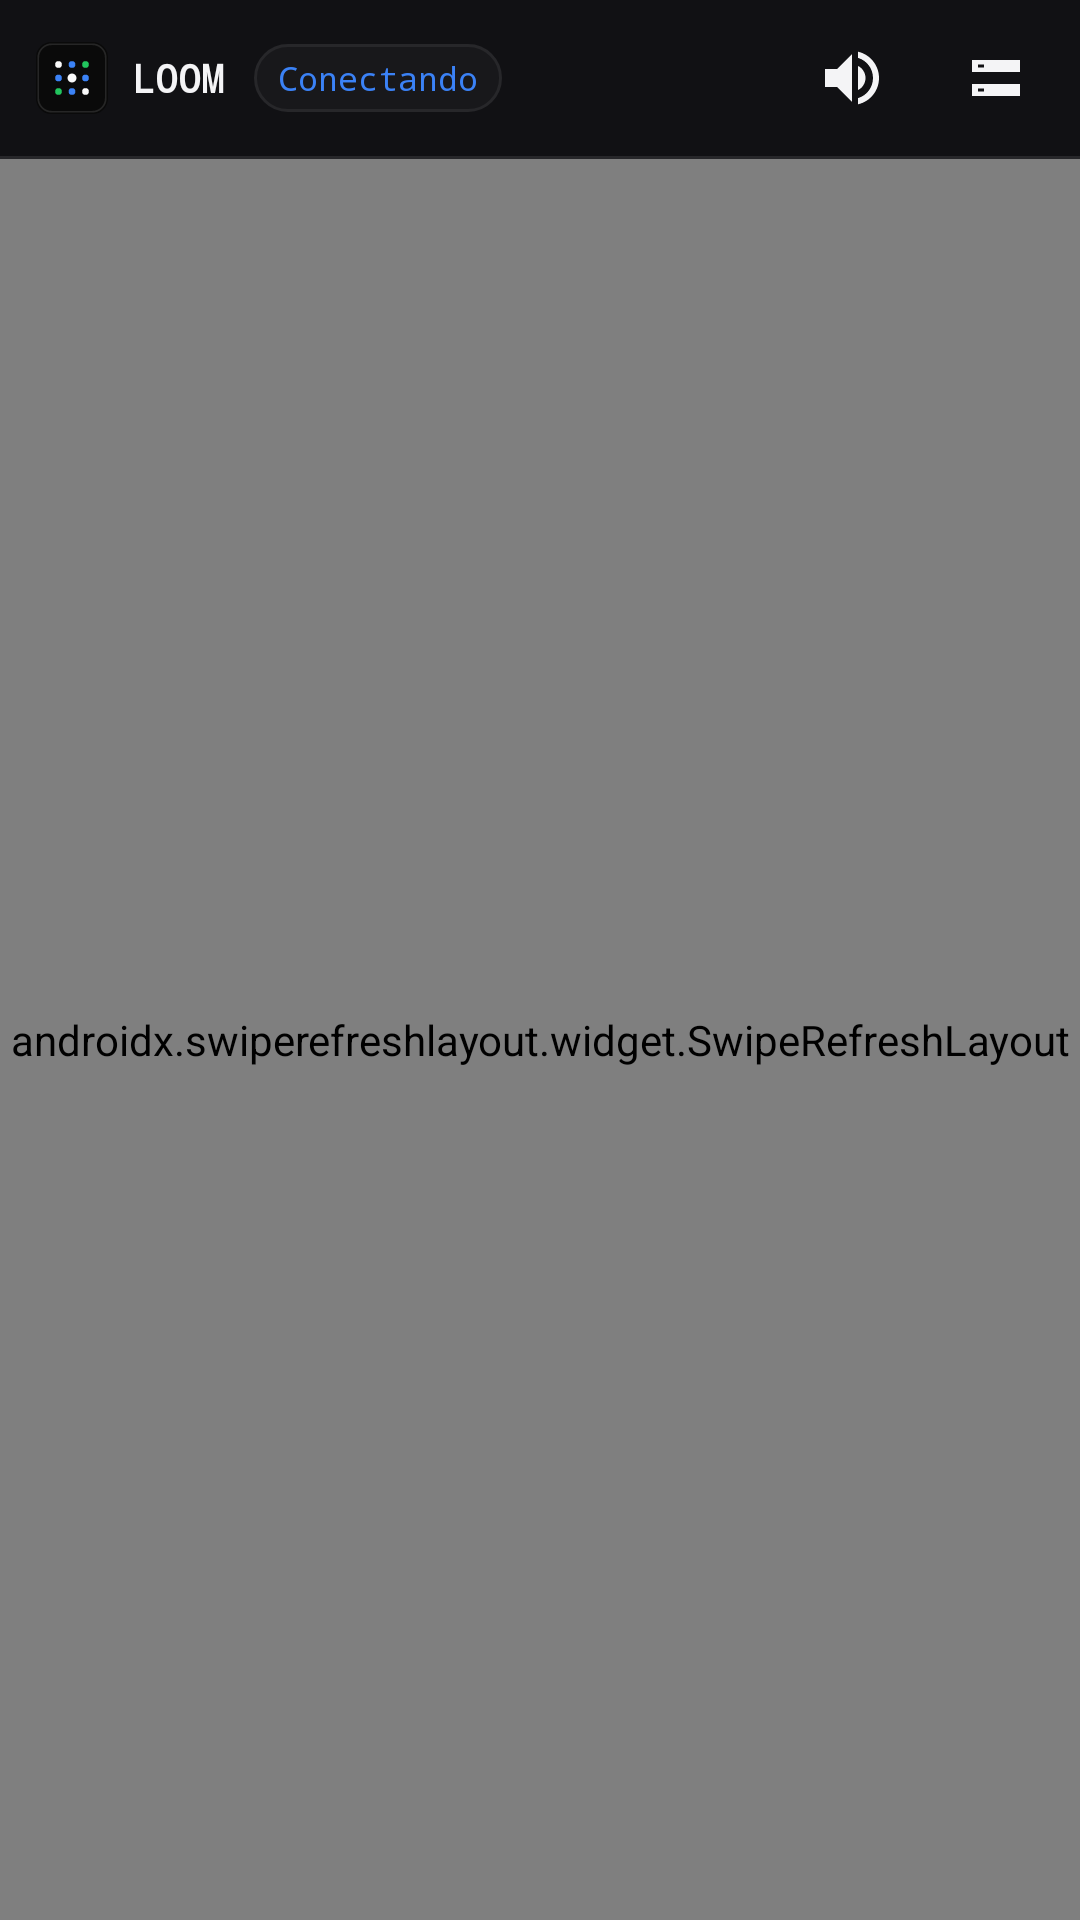

Icon click points for this 1080 × 1920 phone screenshot, format point (x, y):
Configurar nodo: point (996, 78)
Silenciar sonido: point (852, 78)
